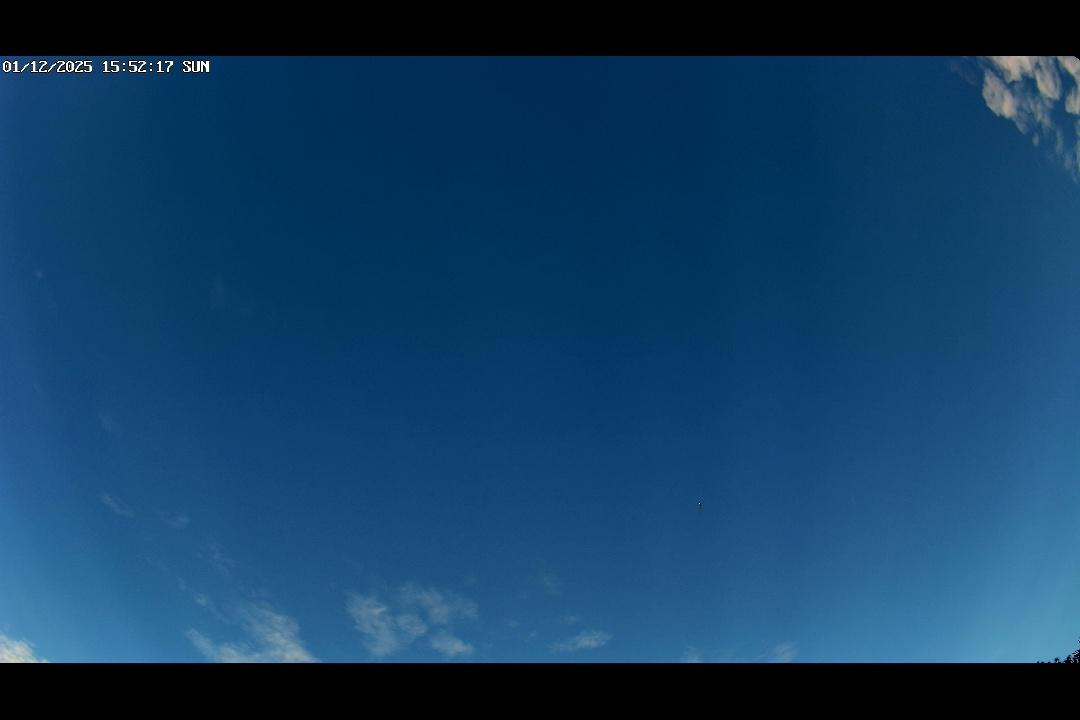WildLife: (693, 501, 707, 511)
